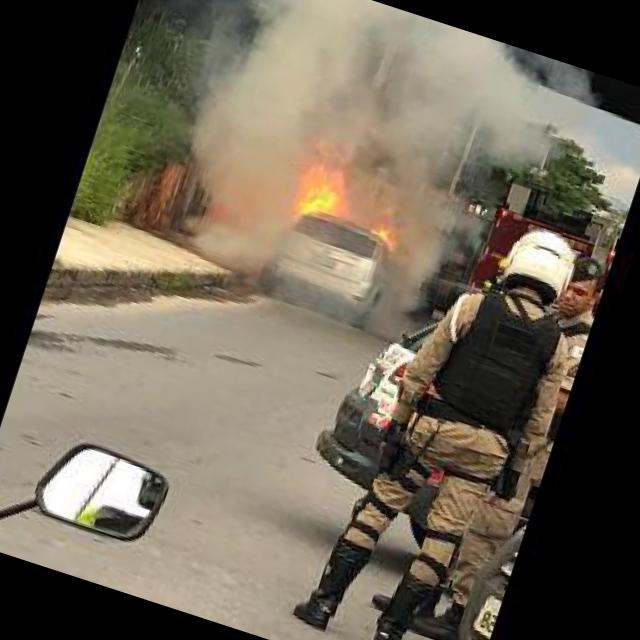fire: (291, 136, 362, 227), (370, 225, 394, 246)
smoke: (153, 0, 531, 347)
